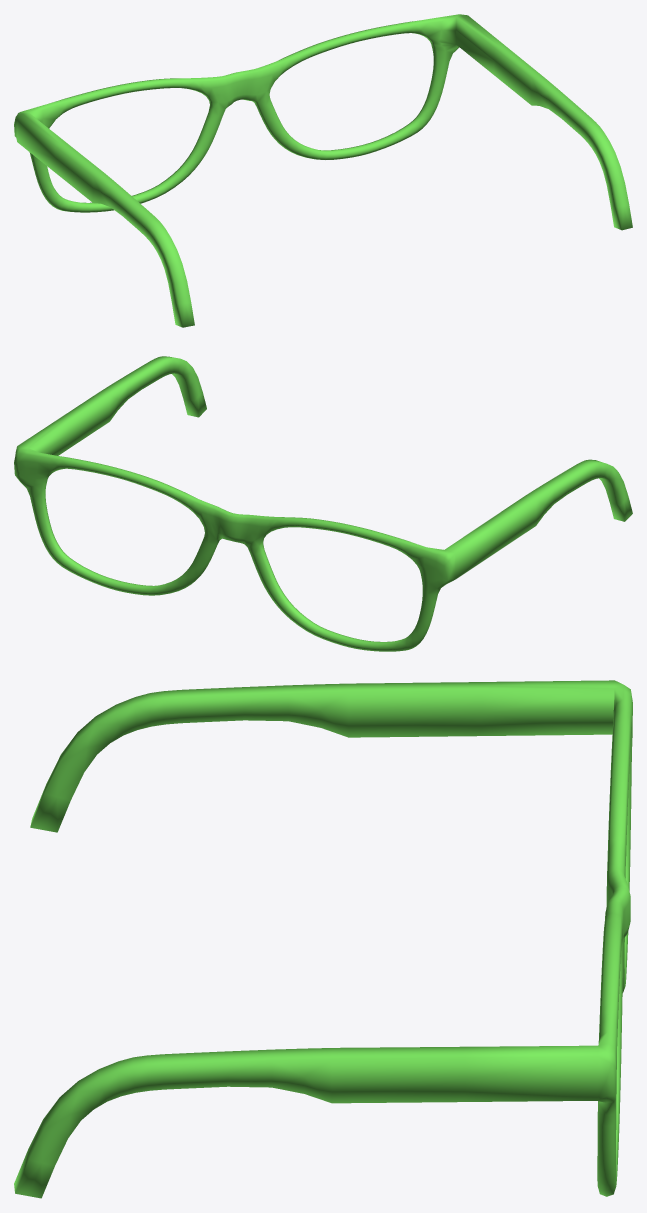
Rendered from green_sunglasses.fbx.
3 views of the same model, one above another, from view 1: azimuth 30°, elevation 25°; view 2: azimuth 150°, elevation 25°; view 3: azimuth 270°, elevation 25° (orthographic). The views are drawn at different scales.
Parts seen in each view (by area): view 1: Glasses; view 2: Glasses; view 3: Glasses.
Boxes of the visible parts, <box> form: Glasses: <box>14,14,632,327</box>; Glasses: <box>14,356,632,651</box>; Glasses: <box>14,680,632,1198</box>.
Bounding box in the file's own units: 17.32 × 4.58 × 12.14.
